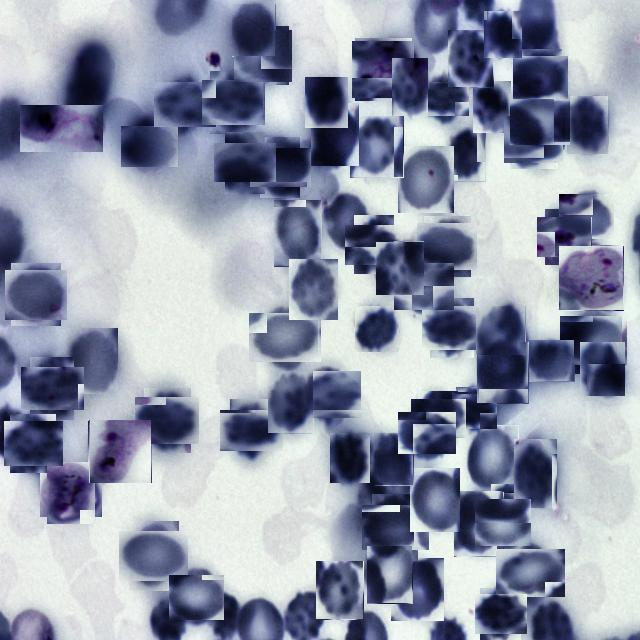red blood cell: (254, 307, 316, 368), (398, 146, 454, 213), (466, 425, 519, 493), (124, 526, 184, 586), (564, 310, 623, 370), (501, 544, 560, 603), (350, 116, 404, 178), (391, 558, 444, 621), (67, 328, 118, 393), (454, 491, 504, 557), (477, 342, 529, 404), (274, 200, 322, 267), (410, 468, 460, 532), (8, 266, 64, 323), (367, 499, 423, 556), (512, 91, 568, 148), (140, 392, 196, 448), (235, 28, 291, 84), (514, 439, 558, 509), (311, 103, 359, 166), (289, 259, 338, 320), (323, 190, 371, 252), (420, 220, 474, 274), (158, 78, 212, 132), (303, 368, 357, 422), (506, 112, 560, 166), (206, 76, 260, 130), (398, 260, 452, 314), (268, 371, 314, 434), (316, 561, 364, 620), (26, 362, 78, 416), (7, 417, 59, 470), (448, 29, 494, 88), (426, 302, 478, 354), (225, 404, 277, 456), (478, 496, 530, 548), (367, 546, 413, 604), (376, 240, 424, 294), (171, 572, 222, 622), (255, 142, 305, 193), (580, 342, 626, 397), (562, 192, 612, 242), (516, 52, 566, 102), (476, 306, 526, 356), (402, 408, 452, 458), (220, 138, 270, 188), (567, 96, 609, 155), (124, 122, 174, 171), (349, 220, 398, 269), (232, 4, 276, 57), (414, 394, 462, 442), (446, 127, 486, 182), (305, 77, 348, 128), (374, 433, 414, 486), (478, 591, 524, 637), (392, 58, 428, 116), (355, 306, 399, 352), (330, 433, 370, 483), (473, 81, 511, 133), (529, 340, 575, 382), (484, 11, 523, 59), (424, 78, 466, 120), (454, 389, 496, 431)
ring: (560, 245, 624, 310)
trophozoite: (88, 420, 152, 483), (20, 105, 103, 152), (354, 40, 414, 100), (44, 464, 98, 520), (541, 212, 589, 260)
